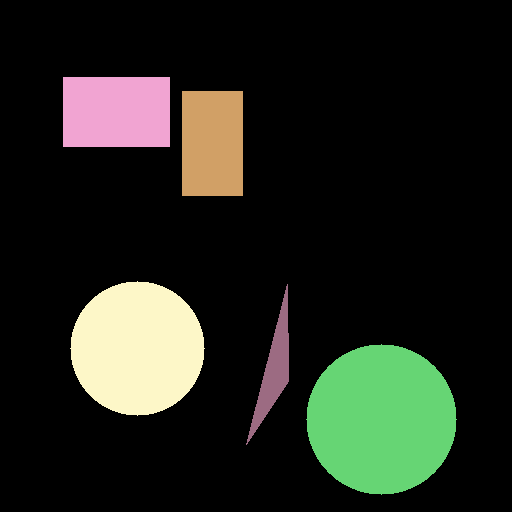circle: (306, 344, 456, 494), (70, 281, 204, 415)
rectangle: (63, 77, 169, 146), (182, 91, 242, 195)
triangle: (246, 284, 288, 444)
